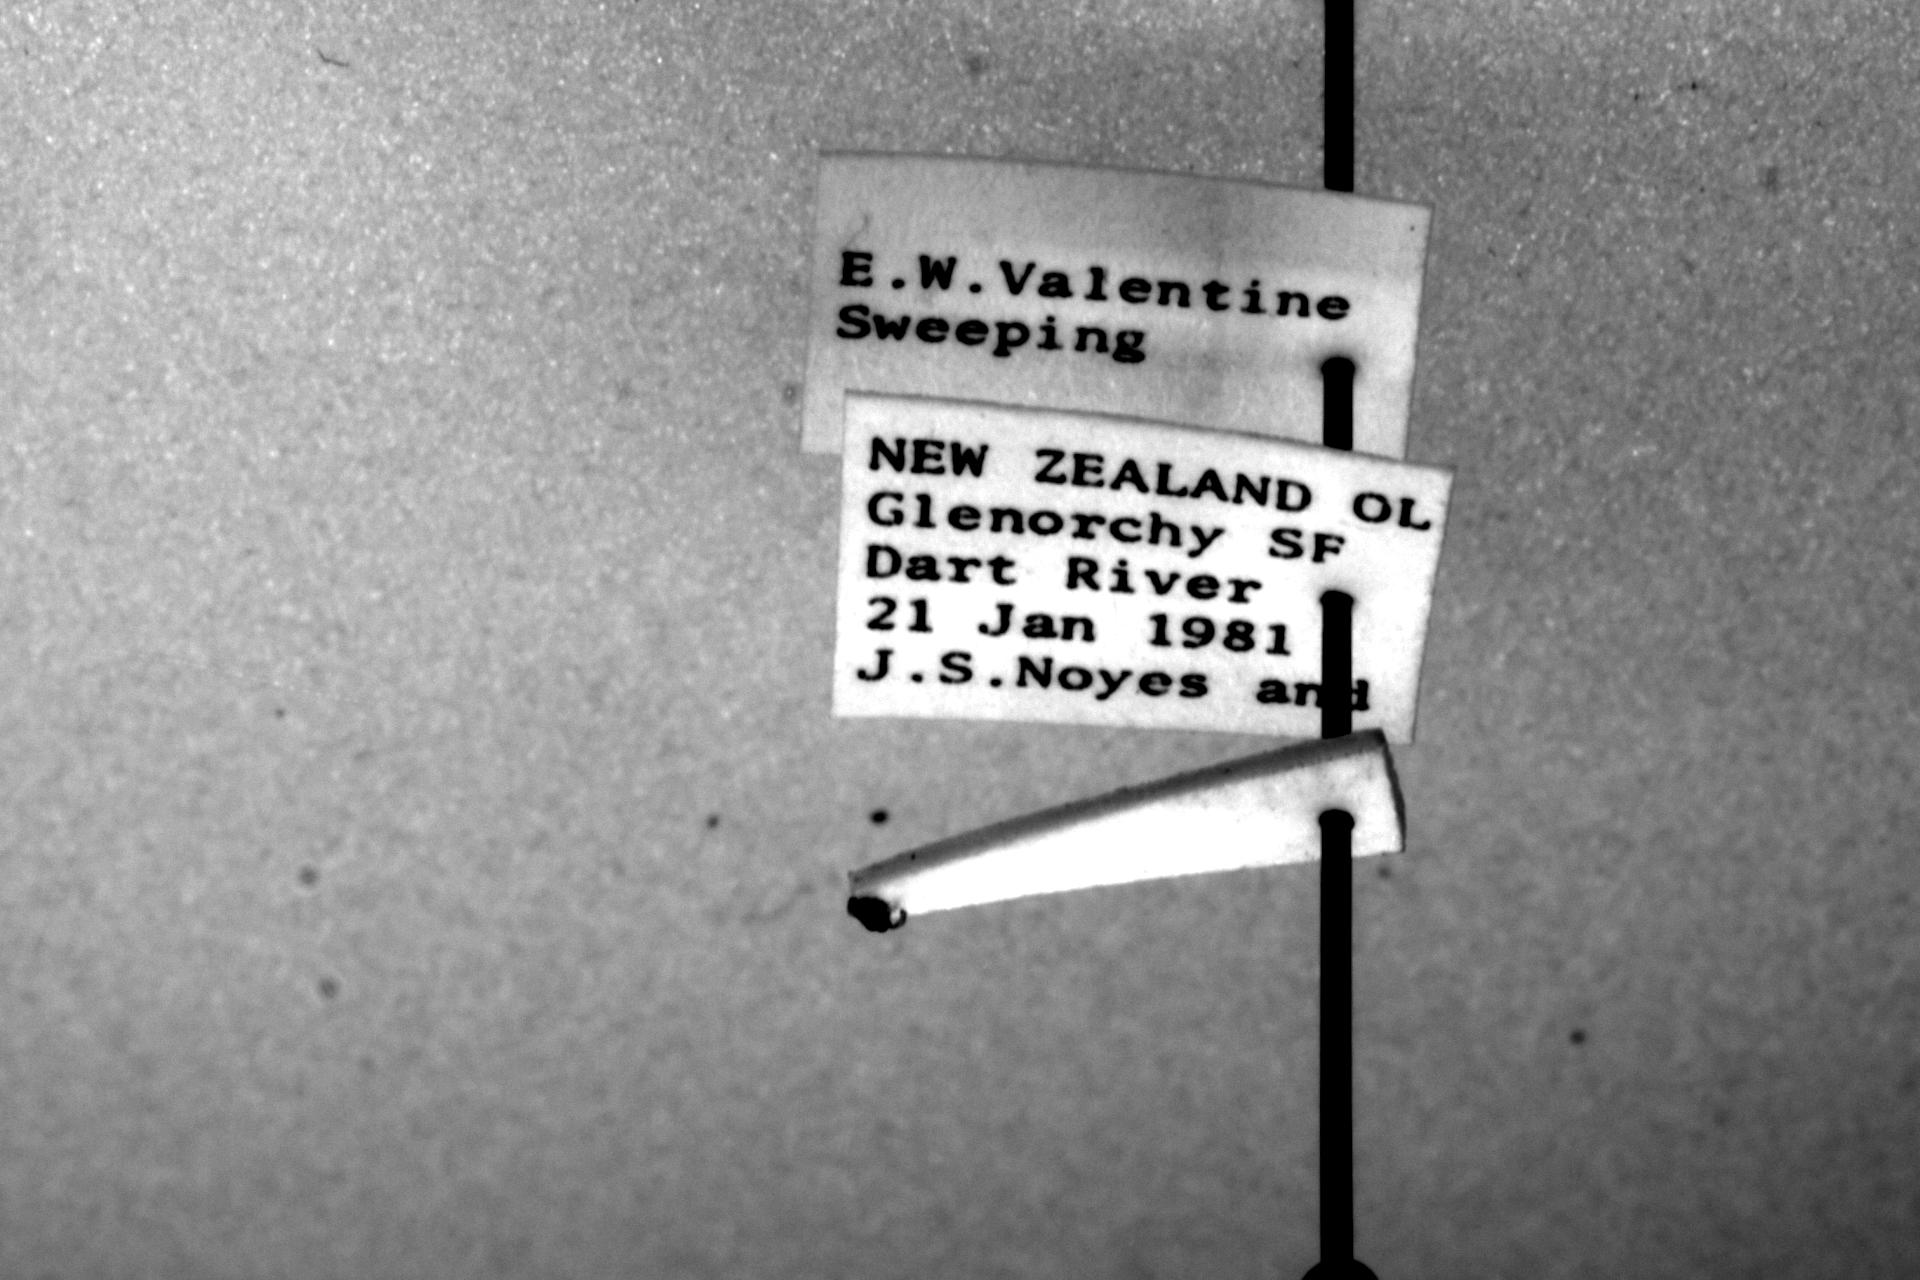typed_label: (833, 394, 1451, 743), (803, 154, 1433, 457)
